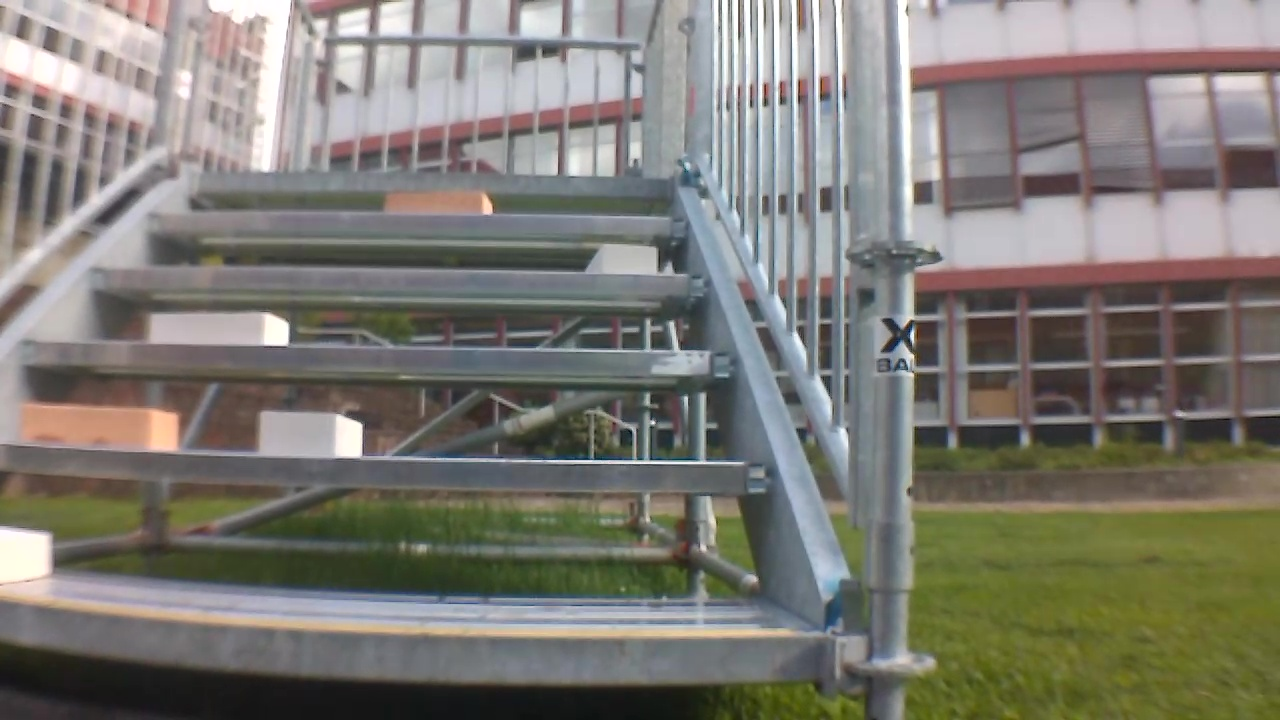brick: (24, 403, 177, 450), (261, 412, 362, 456), (151, 314, 288, 345), (384, 190, 491, 215), (2, 527, 48, 582), (584, 244, 656, 272)
edge: (2, 599, 825, 682), (2, 444, 768, 490), (22, 339, 734, 377), (89, 267, 708, 297), (150, 210, 689, 238), (205, 172, 672, 198)
stairs: (7, 4, 944, 710)
steps: (5, 168, 835, 689)
